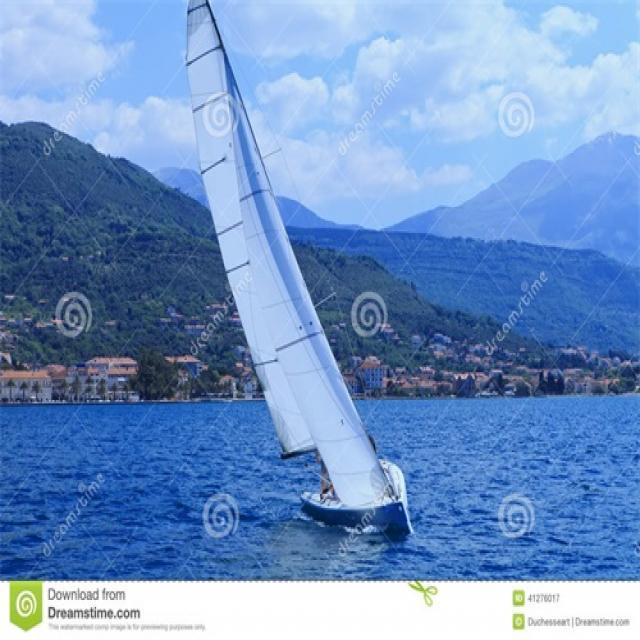Ship: (175, 8, 417, 539)
